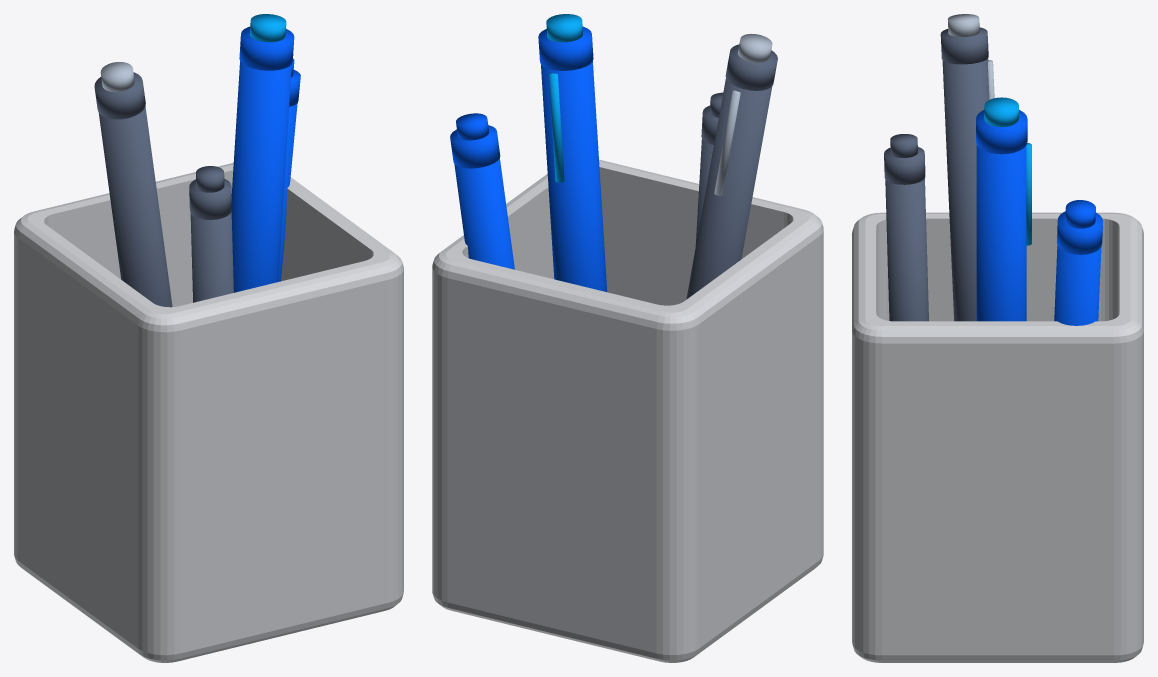
File: 28-nodeworks-pen-holder.glb
3 views of the same model, side by side, from view 1: azimuth 30°, elevation 25°; view 2: azimuth 150°, elevation 25°; view 3: azimuth 270°, elevation 25° (orthographic). The views are drawn at different scales.
Visible parts, largest first — view 1: hollow_white_square_holder, tall_blue_pen_barrel, tall_gray_pen_barrel, rear_gray_pen_barrel, tall_blue_pen_top_collar, tall_gray_pen_top_collar, rear_gray_pen_top_collar, short_blue_pen_barrel, tall_blue_pen_click_button, tall_gray_pen_click_button, rear_gray_pen_click_button; view 2: hollow_white_square_holder, tall_blue_pen_barrel, tall_gray_pen_barrel, short_blue_pen_barrel, tall_blue_pen_top_collar, tall_gray_pen_top_collar, short_blue_pen_top_collar, tall_blue_pen_pocket_clip, tall_gray_pen_pocket_clip, tall_blue_pen_click_button, tall_gray_pen_click_button, short_blue_pen_click_button (+1 smaller); view 3: hollow_white_square_holder, tall_blue_pen_barrel, tall_gray_pen_barrel, rear_gray_pen_barrel, short_blue_pen_barrel, tall_blue_pen_top_collar, tall_gray_pen_top_collar, short_blue_pen_top_collar, rear_gray_pen_top_collar, tall_blue_pen_click_button, short_blue_pen_click_button, tall_gray_pen_click_button (+2 smaller).
Boxes of the visible parts, <box> form: hollow_white_square_holder: <box>14,163,403,662</box>; tall_blue_pen_barrel: <box>231,61,291,292</box>; tall_gray_pen_barrel: <box>98,106,172,307</box>; rear_gray_pen_barrel: <box>190,212,233,302</box>; tall_blue_pen_top_collar: <box>239,26,294,70</box>; tall_gray_pen_top_collar: <box>94,72,145,119</box>; rear_gray_pen_top_collar: <box>189,178,231,219</box>; short_blue_pen_barrel: <box>278,103,297,281</box>; tall_blue_pen_click_button: <box>250,14,286,42</box>; tall_gray_pen_click_button: <box>100,62,134,92</box>; rear_gray_pen_click_button: <box>195,166,224,192</box>; hollow_white_square_holder: <box>432,159,823,662</box>; tall_blue_pen_barrel: <box>541,61,607,291</box>; tall_gray_pen_barrel: <box>686,78,772,299</box>; short_blue_pen_barrel: <box>454,158,514,269</box>; tall_blue_pen_top_collar: <box>538,26,593,70</box>; tall_gray_pen_top_collar: <box>725,44,777,90</box>; short_blue_pen_top_collar: <box>450,125,500,168</box>; tall_blue_pen_pocket_clip: <box>549,72,564,182</box>; tall_gray_pen_pocket_clip: <box>714,90,740,195</box>; tall_blue_pen_click_button: <box>546,14,582,42</box>; tall_gray_pen_click_button: <box>738,33,772,63</box>; short_blue_pen_click_button: <box>456,113,488,140</box>; hollow_white_square_holder: <box>852,212,1143,662</box>; tall_blue_pen_barrel: <box>976,145,1026,321</box>; tall_gray_pen_barrel: <box>942,59,989,321</box>; rear_gray_pen_barrel: <box>885,179,928,321</box>; short_blue_pen_barrel: <box>1054,245,1101,325</box>; tall_blue_pen_top_collar: <box>976,110,1027,154</box>; tall_gray_pen_top_collar: <box>940,27,988,64</box>; short_blue_pen_top_collar: <box>1056,211,1102,254</box>; rear_gray_pen_top_collar: <box>884,147,925,184</box>; tall_blue_pen_click_button: <box>984,97,1018,127</box>; short_blue_pen_click_button: <box>1065,200,1095,228</box>; tall_gray_pen_click_button: <box>947,14,979,36</box>.
Size of the model in its own units: 0.0781 by 0.1586 by 0.078.
